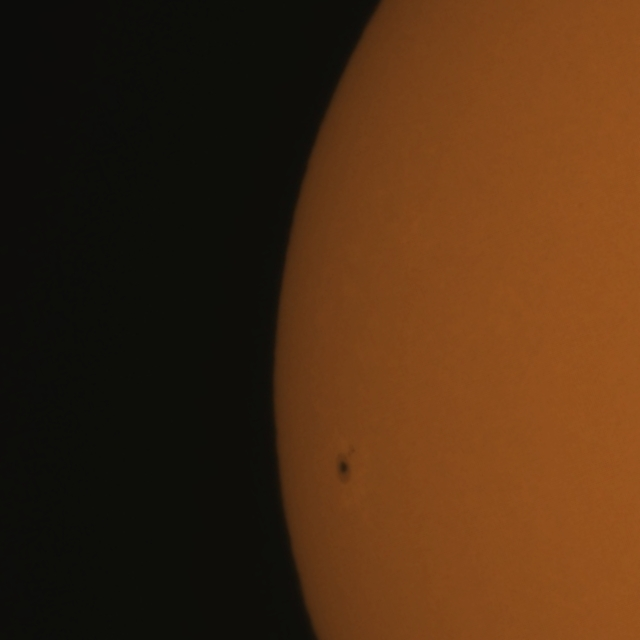sunspot: (336, 444, 357, 482)
